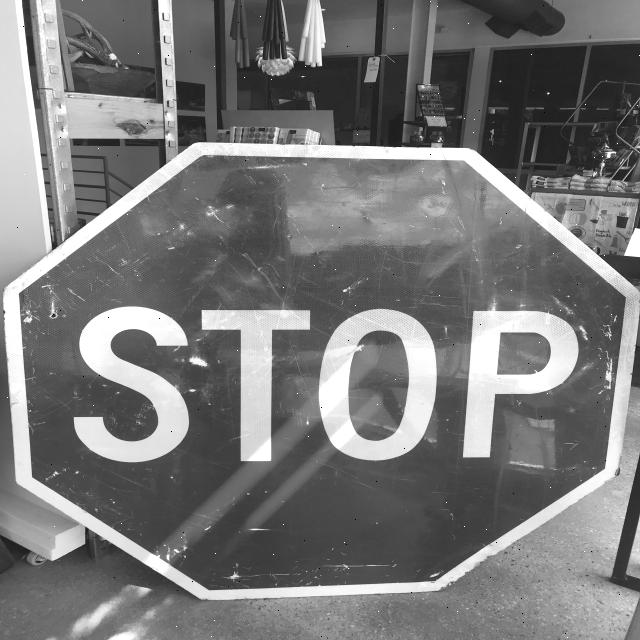Stop-sign: (0, 132, 631, 608)
